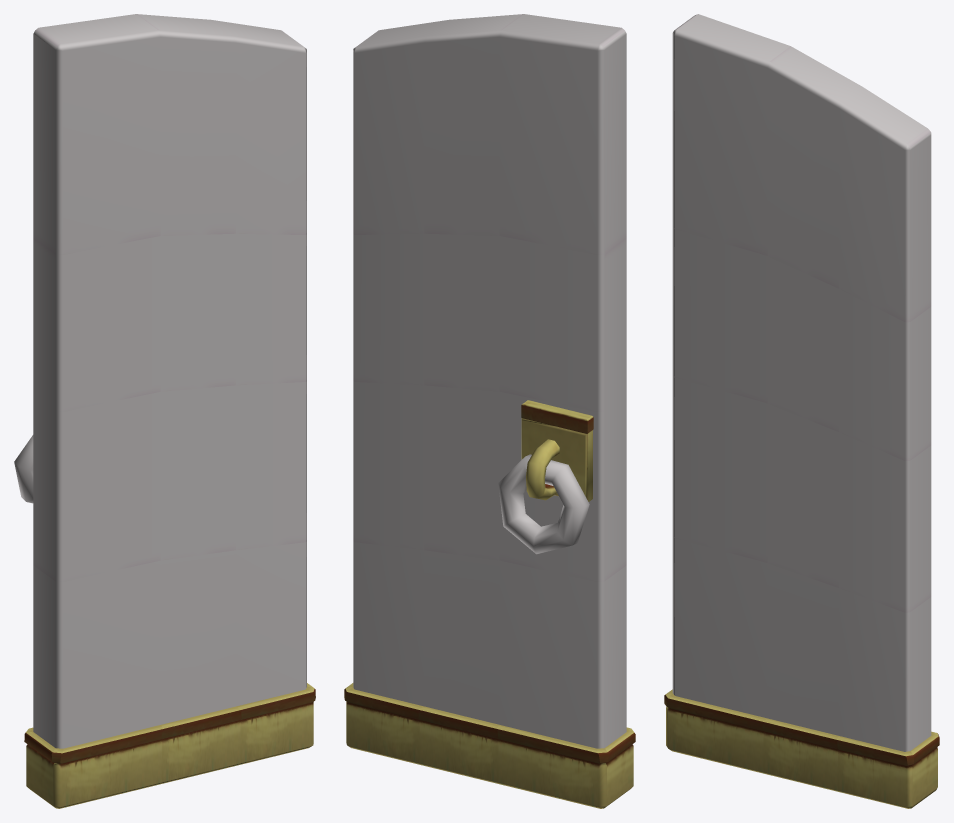
The model's file is SM_Door.fbx.
3 renders of one model, left to right at view 1: azimuth 30°, elevation 25°; view 2: azimuth 150°, elevation 25°; view 3: azimuth 330°, elevation 25°, orthographic. The views are drawn at different scales.
Parts seen in each view (by area): view 1: SM_Door; view 2: SM_Door; view 3: SM_Door.
Boxes of the visible parts, bbox=[...] form: SM_Door: bbox=[14, 14, 315, 808]; SM_Door: bbox=[344, 14, 635, 808]; SM_Door: bbox=[664, 14, 939, 808].
Bounding box in the file's own units: 166 × 458 × 62.6.
